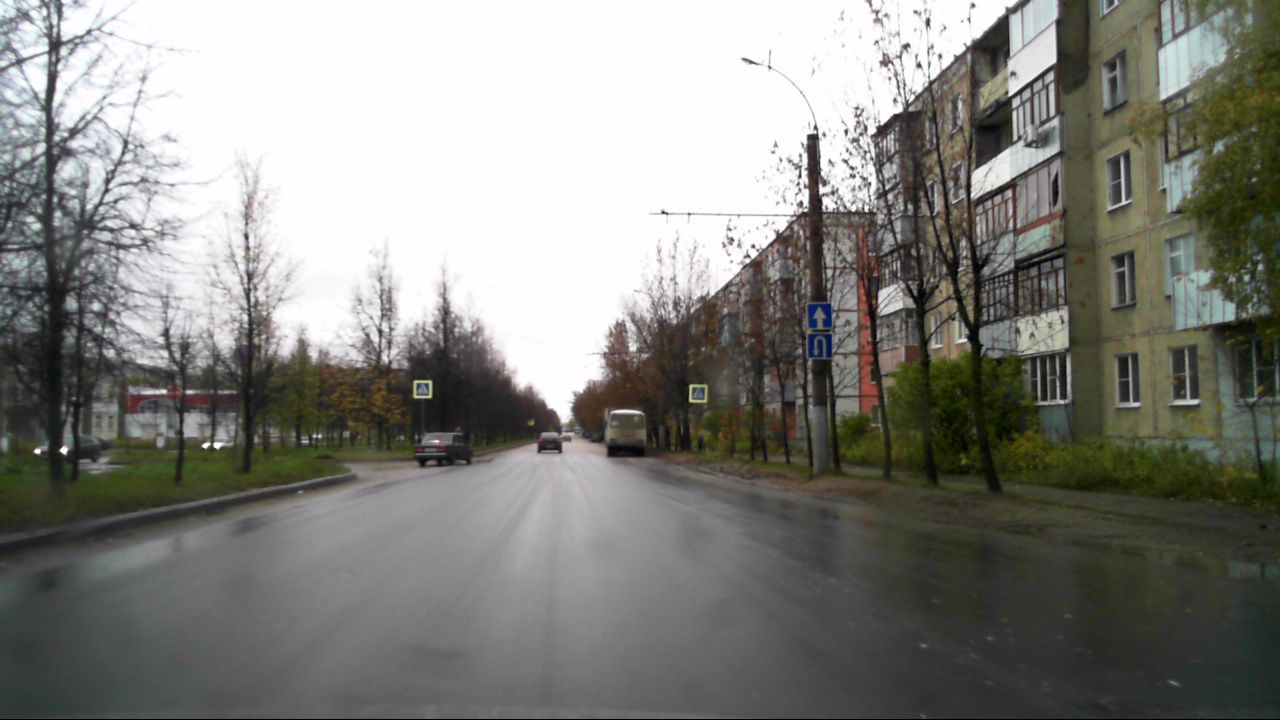U-turn: (807, 333, 833, 359)
